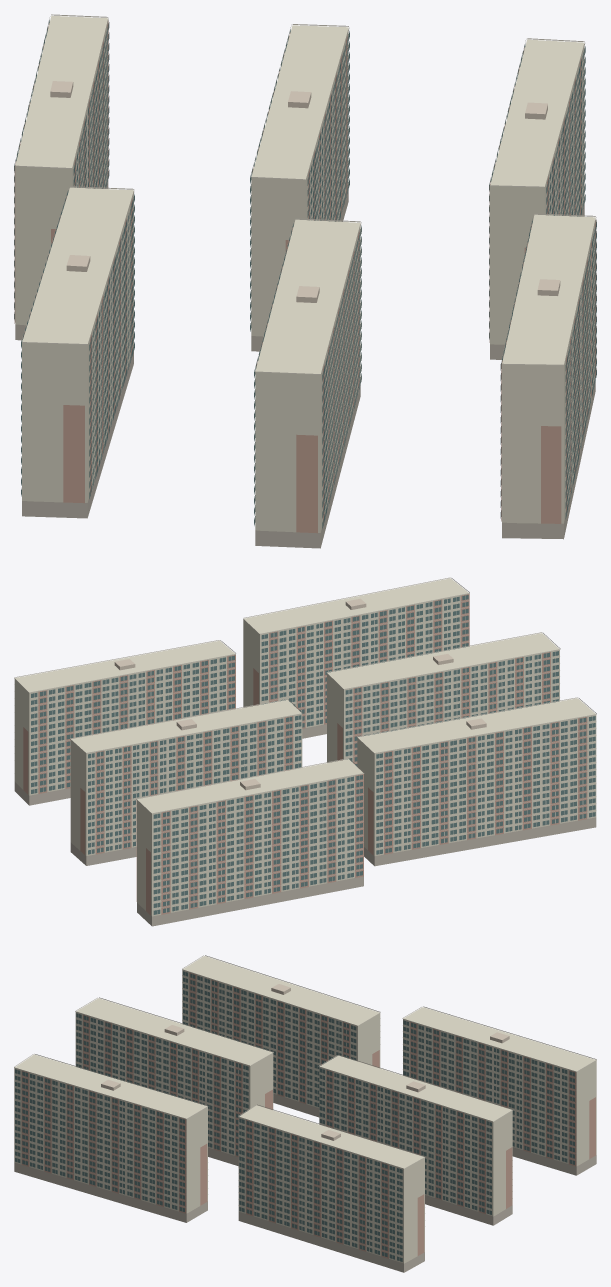
Rendered from representative-a15780703.glb.
3 renders of one model, top to bottom at view 1: azimuth 30°, elevation 25°; view 2: azimuth 150°, elevation 25°; view 3: azimuth 270°, elevation 25°, orthographic. The views are drawn at different scales.
Parts seen in each view (by area): view 1: A15780703_wall001, A15780703_glass001, A15780703_accent001, A15780703_trim001, A15780703_base001, A15780703_roof001; view 2: A15780703_wall001, A15780703_glass001, A15780703_accent001, A15780703_trim001, A15780703_base001, A15780703_roof001; view 3: A15780703_wall001, A15780703_glass001, A15780703_accent001, A15780703_trim001, A15780703_base001, A15780703_roof001.
Part boxes in pixels (x1=…): A15780703_wall001: x1=15, y1=15, x2=595, y2=532; A15780703_glass001: x1=14, y1=20, x2=596, y2=528; A15780703_accent001: x1=14, y1=21, x2=596, y2=533; A15780703_trim001: x1=14, y1=14, x2=596, y2=508; A15780703_base001: x1=15, y1=179, x2=595, y2=548; A15780703_roof001: x1=50, y1=81, x2=560, y2=302; A15780703_wall001: x1=14, y1=578, x2=596, y2=916; A15780703_glass001: x1=31, y1=595, x2=595, y2=914; A15780703_accent001: x1=23, y1=594, x2=587, y2=915; A15780703_trim001: x1=14, y1=577, x2=596, y2=913; A15780703_base001: x1=14, y1=724, x2=596, y2=926; A15780703_roof001: x1=114, y1=598, x2=486, y2=790; A15780703_wall001: x1=14, y1=956, x2=596, y2=1263; A15780703_glass001: x1=15, y1=971, x2=574, y2=1261; A15780703_accent001: x1=21, y1=972, x2=595, y2=1258; A15780703_trim001: x1=14, y1=955, x2=596, y2=1260; A15780703_base001: x1=14, y1=1093, x2=596, y2=1272; A15780703_roof001: x1=101, y1=984, x2=509, y2=1140.
Size of the model in its own units: 198 by 46.4 by 228.
